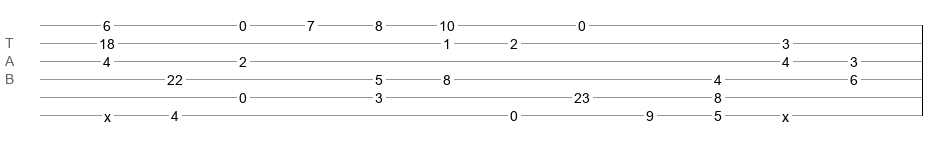0: (239, 90, 247, 100), (239, 18, 247, 28), (510, 108, 518, 118), (578, 18, 586, 28)
1: (443, 36, 451, 46)
10: (439, 18, 455, 28)
18: (99, 36, 115, 46)
2: (239, 54, 247, 64), (510, 36, 518, 46)
22: (167, 72, 183, 82)
23: (574, 90, 590, 100)
3: (375, 90, 383, 100), (782, 36, 790, 46), (850, 54, 858, 64)
4: (103, 54, 111, 64), (171, 108, 179, 118), (714, 72, 722, 82), (782, 54, 790, 64)
5: (375, 72, 383, 82), (714, 108, 722, 118)
6: (103, 18, 111, 28), (850, 72, 858, 82)
7: (307, 18, 315, 28)
8: (375, 18, 383, 28), (443, 72, 451, 82), (714, 90, 722, 100)
9: (646, 108, 654, 118)
x: (104, 109, 111, 117), (782, 109, 789, 117)
